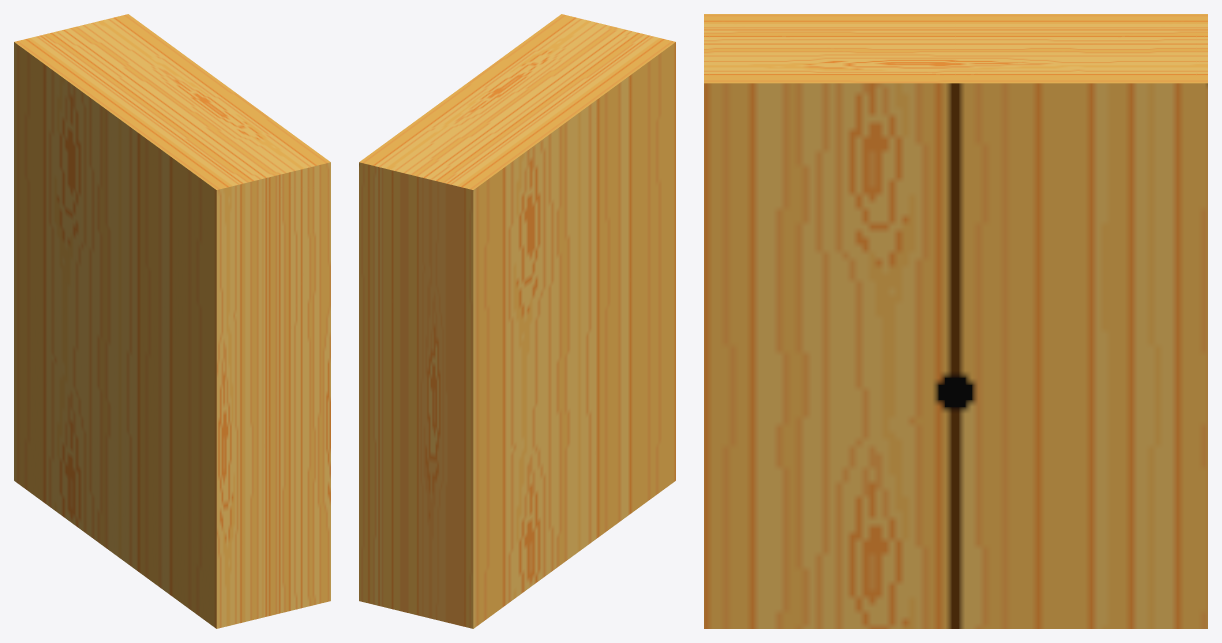
Rendered from Rope.fbx.
3 views of the same model, side by side, from view 1: azimuth 30°, elevation 25°; view 2: azimuth 150°, elevation 25°; view 3: azimuth 270°, elevation 25° (orthographic). The views are drawn at different scales.
Visible parts, largest first — view 1: pCube1; view 2: pCube1; view 3: pCube1.
Part boxes in pixels (x1,y1,x2,y2): pCube1: [14, 14, 330, 628]; pCube1: [359, 14, 675, 628]; pCube1: [704, 14, 1207, 628].
Bounding box in the file's own units: 5.66 × 20.76 × 17.37.
